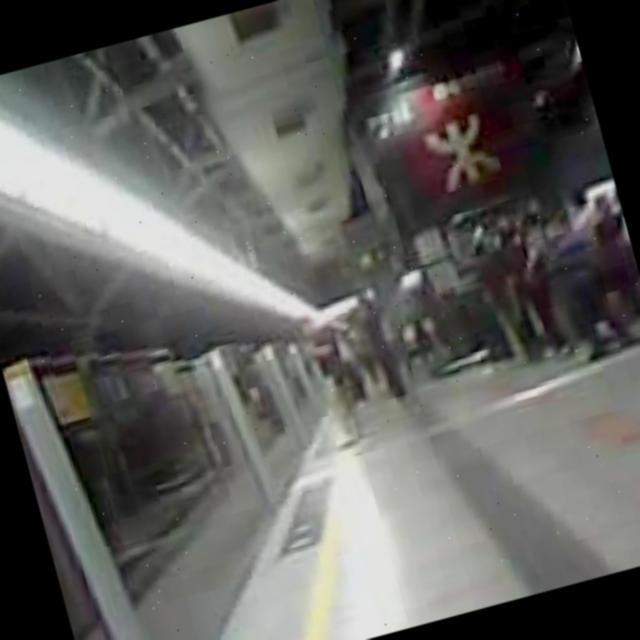person: (530, 203, 628, 369), (571, 190, 640, 344), (506, 212, 576, 362)
